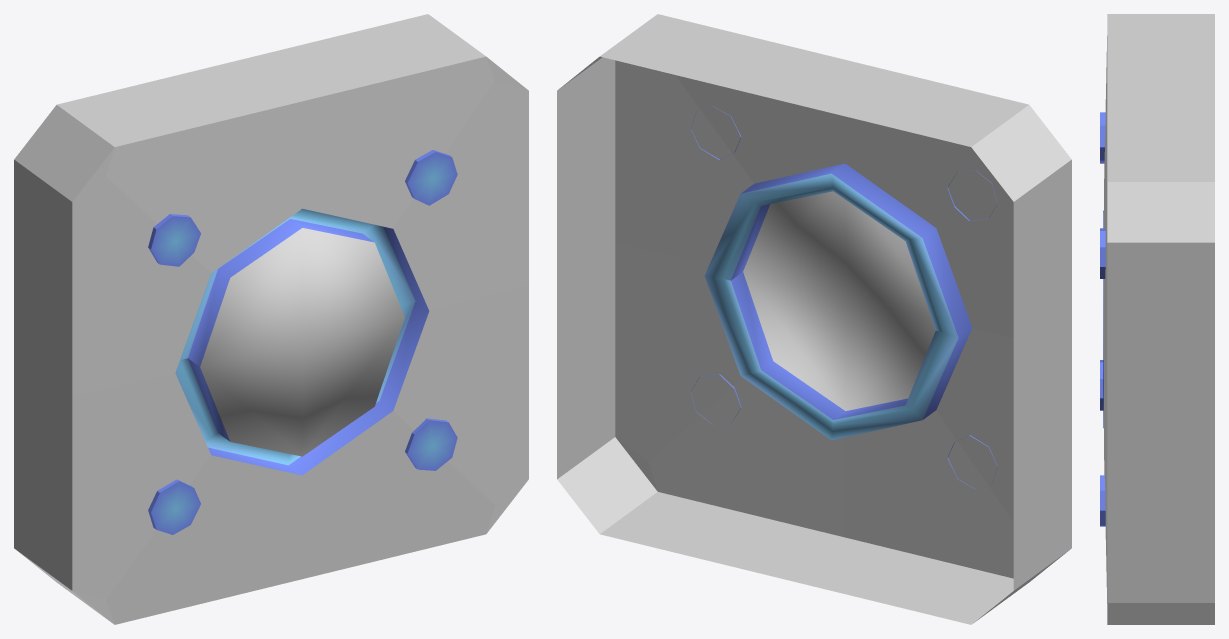
Rendered from LightHub_01.fbx.
3 renders of one model, left to right at view 1: azimuth 30°, elevation 25°; view 2: azimuth 150°, elevation 25°; view 3: azimuth 270°, elevation 25°, orthographic. The views are drawn at different scales.
Visible parts, largest first — view 1: LightHub_01, LightHub_Lights_01; view 2: LightHub_01, LightHub_Lights_01; view 3: LightHub_01, LightHub_Lights_01.
Part boxes in pixels (<box>): LightHub_01: <box>14,14,528,624</box>; LightHub_Lights_01: <box>148,150,457,534</box>; LightHub_01: <box>557,14,1071,624</box>; LightHub_Lights_01: <box>691,106,997,489</box>; LightHub_01: <box>1104,14,1214,624</box>; LightHub_Lights_01: <box>1100,112,1105,526</box>.
Size of the model in its own units: 0.2668 by 0.2668 by 0.0627.
